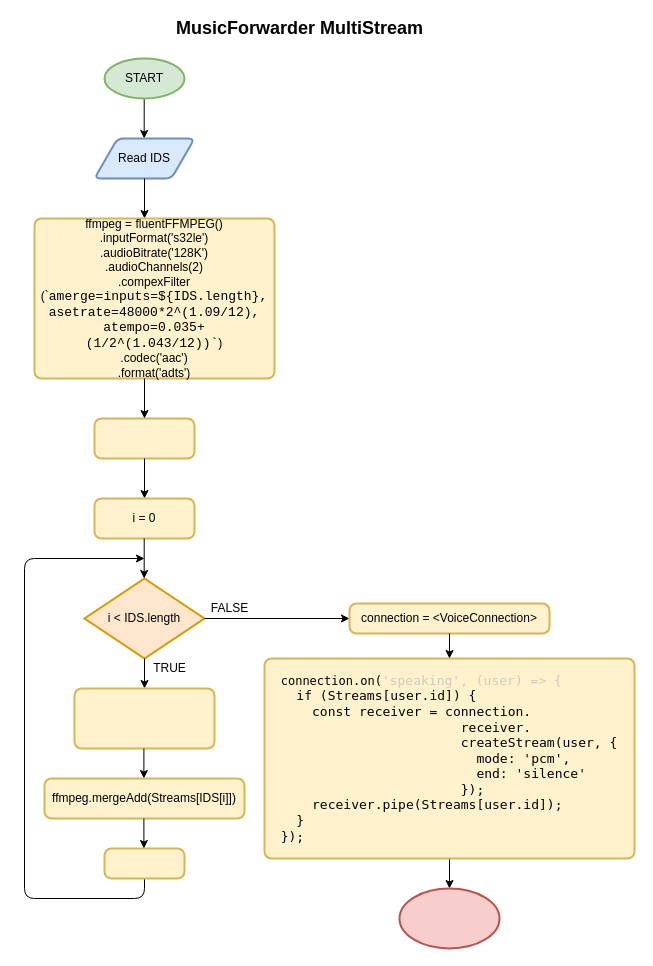
The diagram is 653 pixels wide and 966 high, and some of its shapes have lost their labels. Here are the shapes that lost their labels. From the top down, the centre of each, then its label:
At (x=144, y=438): "Streams = {}".
At (x=144, y=718): "Streams[IDS[i]] = new PassThrough()".
At (x=144, y=863): "i = i + 1".
At (x=449, y=918): "RETURN ffmpeg.pipe()".
